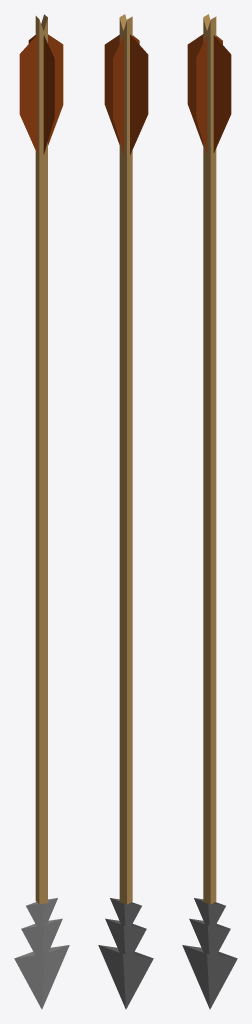
The model's file is Arrow_2.fbx.
3 renders of one model, left to right at view 1: azimuth 30°, elevation 25°; view 2: azimuth 150°, elevation 25°; view 3: azimuth 330°, elevation 25°, orthographic.
Parts seen in each view (by area): view 1: Comp_Arrow_02; view 2: Comp_Arrow_02; view 3: Comp_Arrow_02.
Boxes of the visible parts, x1=… form: Comp_Arrow_02: x1=14, y1=14, x2=69, y2=1009; Comp_Arrow_02: x1=98, y1=14, x2=153, y2=1009; Comp_Arrow_02: x1=182, y1=14, x2=237, y2=1009.
Bounding box in the file's own units: 10.41 × 177 × 8.
